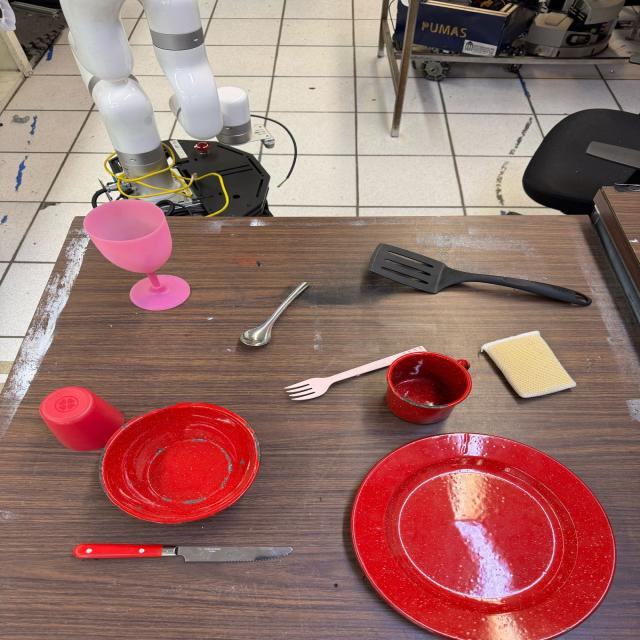cup: (383, 351, 472, 422)
fork: (284, 344, 430, 400)
glass: (39, 386, 127, 450)
knife: (72, 543, 296, 562)
plate: (351, 429, 617, 640)
spatula: (364, 240, 596, 308)
sponge: (482, 330, 576, 398)
spoon: (238, 282, 313, 348)
wineglass: (85, 199, 193, 314)
